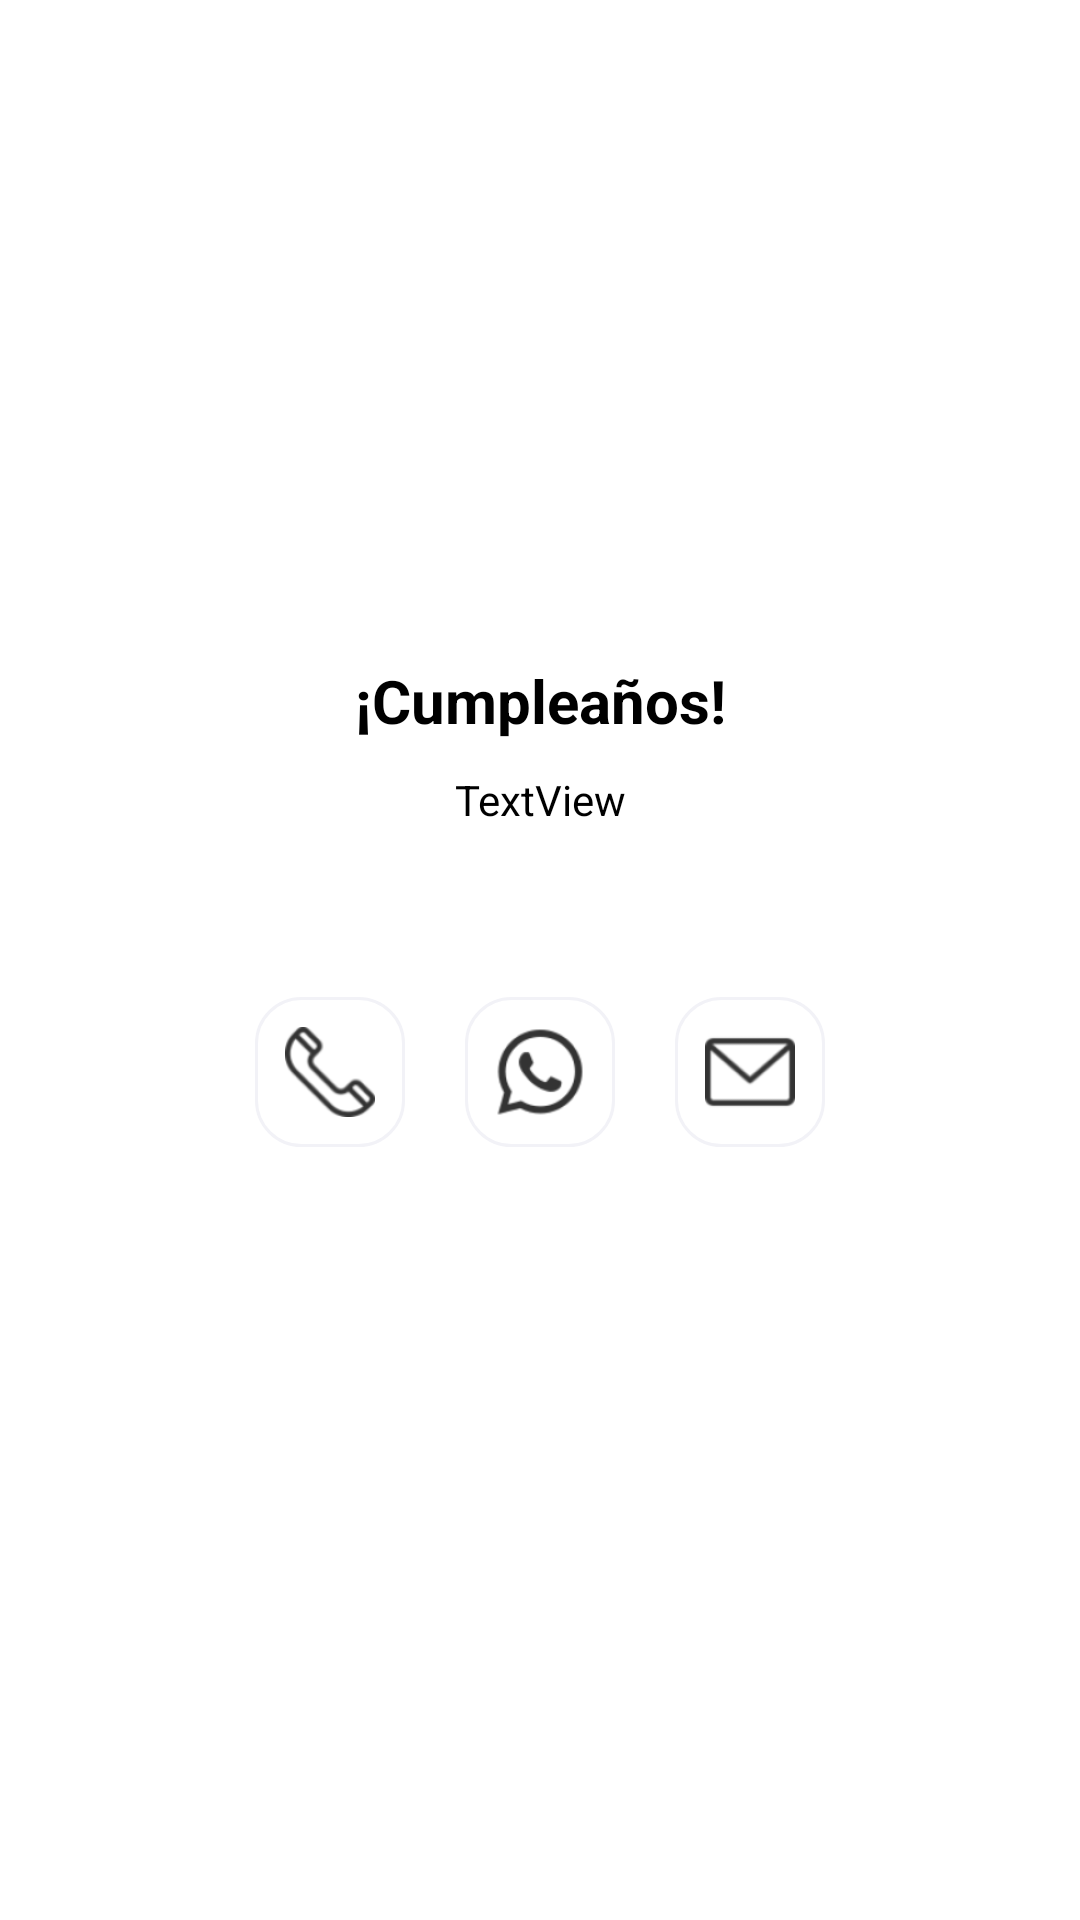

Where icons sit on this 1080 x 1920 app screen, as (x1, y1, x2, y2):
call: (285, 1027, 375, 1117)
correo: (705, 1038, 795, 1106)
